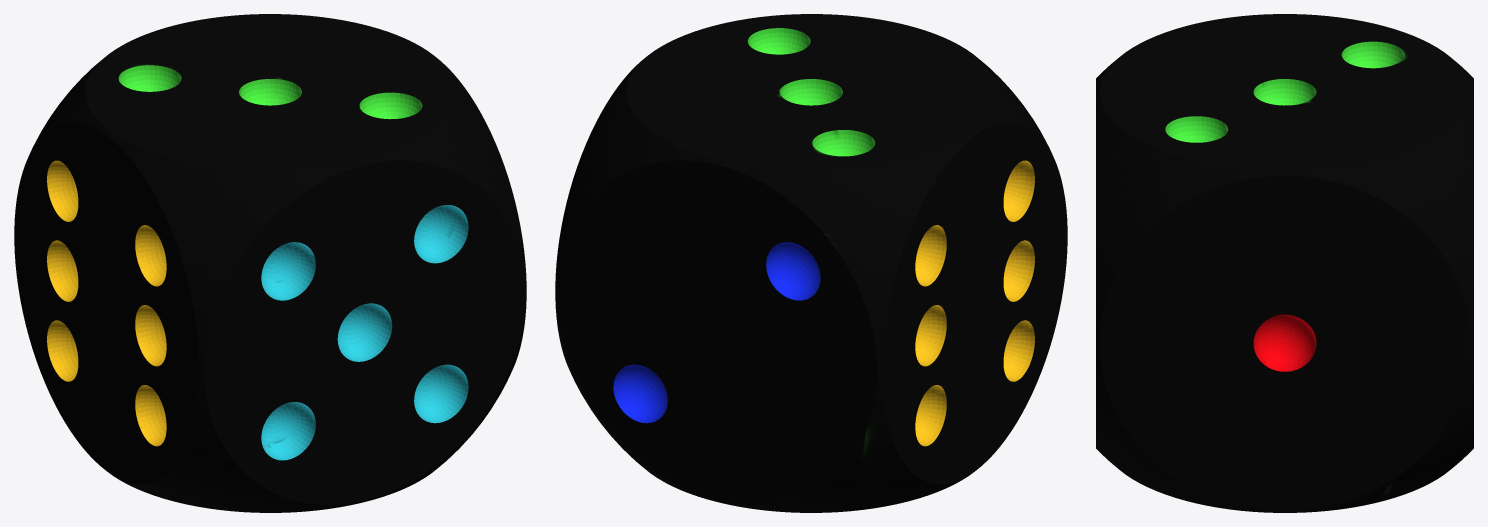
The model's file is NewDiced.fbx.
3 views of the same model, side by side, from view 1: azimuth 30°, elevation 25°; view 2: azimuth 150°, elevation 25°; view 3: azimuth 270°, elevation 25° (orthographic).
Visible parts, largest first — view 1: Dado; view 2: Dado; view 3: Dado.
Part boxes in pixels (<box>): Dado: <box>14,14,526,512</box>; Dado: <box>555,14,1067,512</box>; Dado: <box>1096,14,1473,512</box>.
Size of the model in its own units: 3000 by 3000 by 3000.
